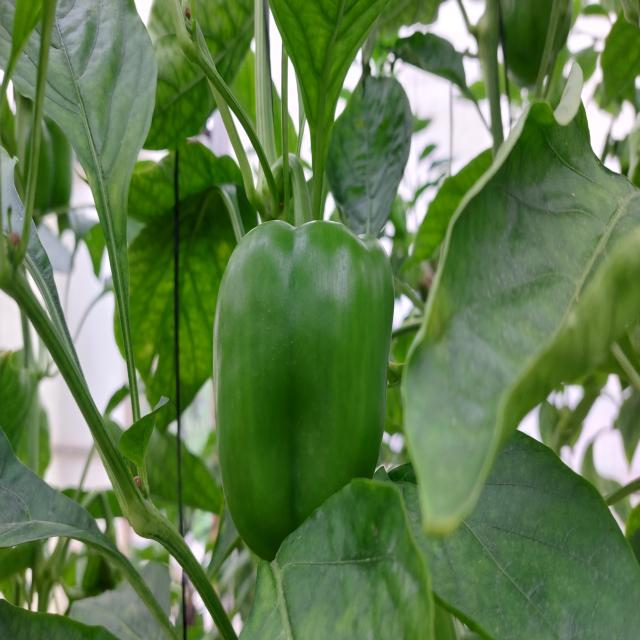Green--Not-ready-to-harvest: (219, 236, 389, 555)
